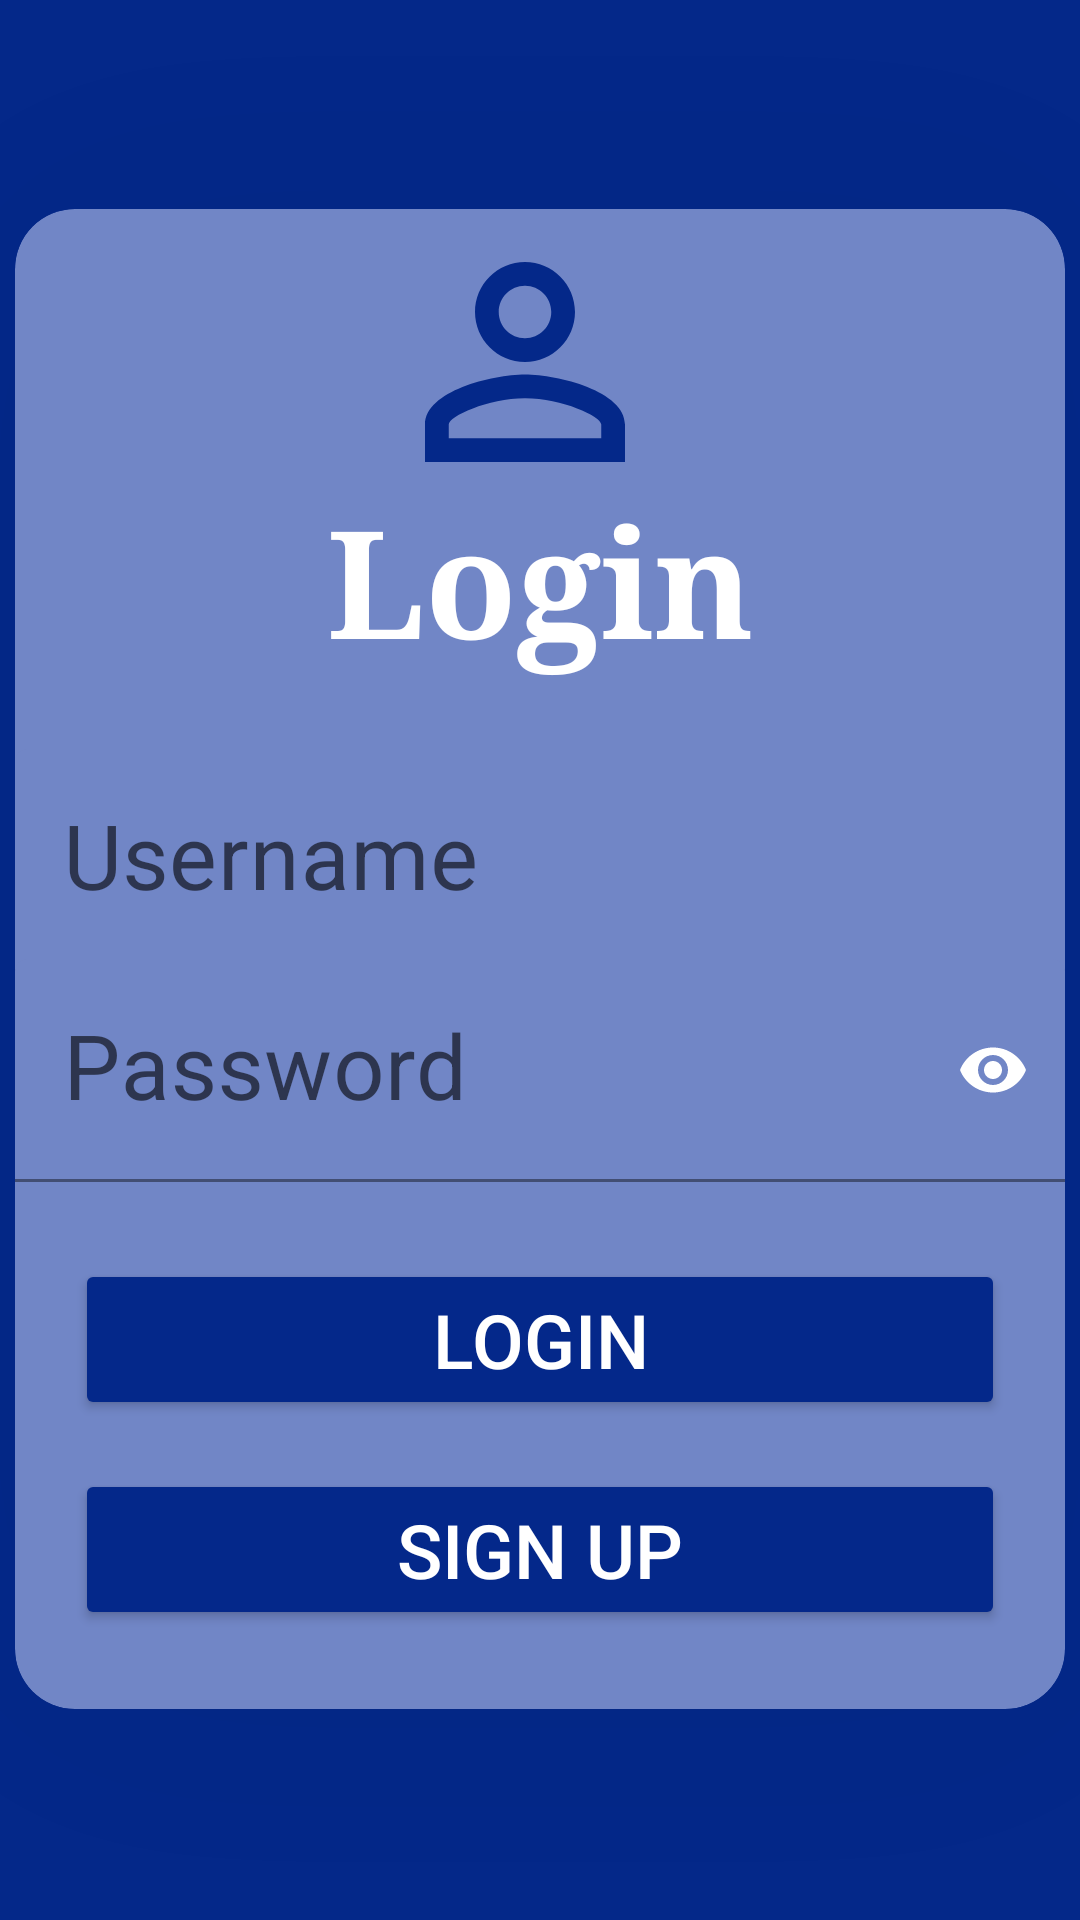

Icons on this 1080x1920 Android screen, each with the point to tap as [x,y]:
perm identity: [525,362]
